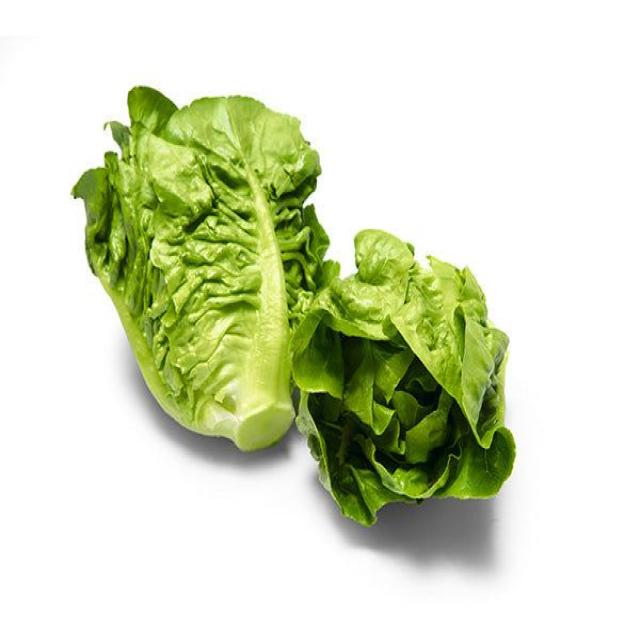lettuce: (73, 87, 328, 449), (293, 231, 515, 524)
